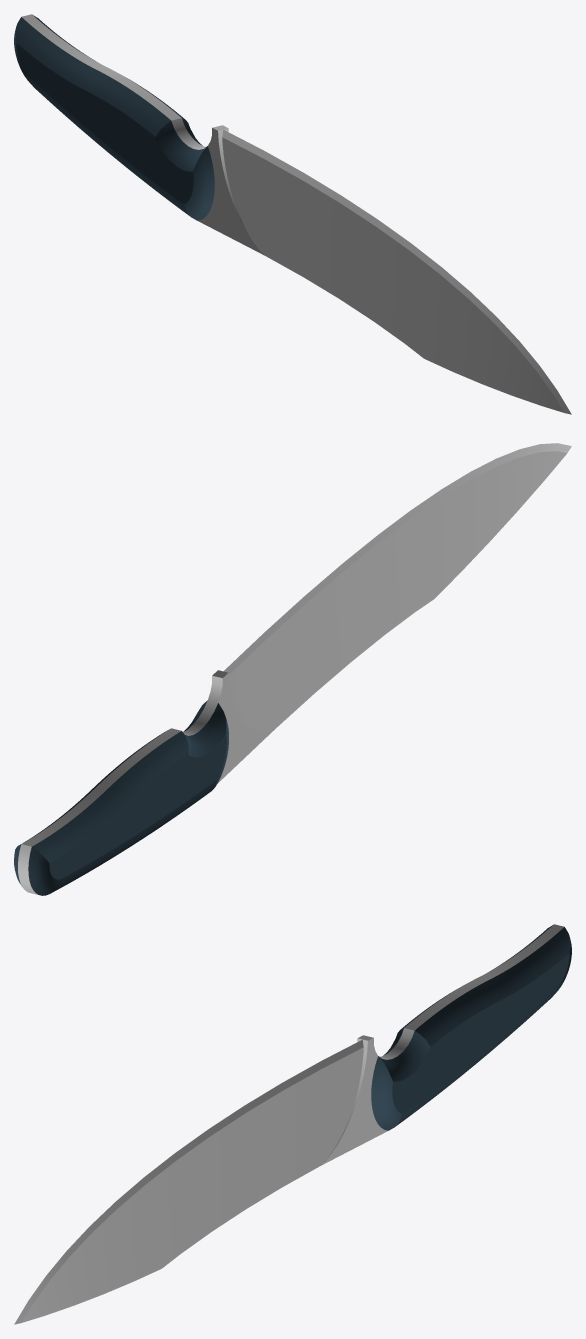
File: model_scale.obj
The picture shows the model from 3 angles, top to bottom: view 1: azimuth 30°, elevation 25°; view 2: azimuth 150°, elevation 25°; view 3: azimuth 330°, elevation 25°; orthographic projection.
Visible parts, largest first — view 1: mesh1_mesh1-geometry, mesh3_mesh3-geometry, mesh2_mesh2-geometry; view 2: mesh1_mesh1-geometry, mesh3_mesh3-geometry, mesh2_mesh2-geometry; view 3: mesh2_mesh2-geometry, mesh4_mesh4-geometry, mesh1_mesh1-geometry.
Part boxes in pixels (x1,y1,x2,y2): mesh1_mesh1-geometry: (21, 15, 571, 414); mesh3_mesh3-geometry: (14, 17, 214, 220); mesh2_mesh2-geometry: (27, 14, 228, 148); mesh1_mesh1-geometry: (23, 443, 571, 894); mesh3_mesh3-geometry: (28, 703, 228, 895); mesh2_mesh2-geometry: (18, 670, 222, 893); mesh2_mesh2-geometry: (14, 925, 564, 1324); mesh4_mesh4-geometry: (371, 927, 571, 1130); mesh1_mesh1-geometry: (357, 924, 558, 1058).
Size of the model in its own units: 0.00752 by 0.0279 by 0.2153.
